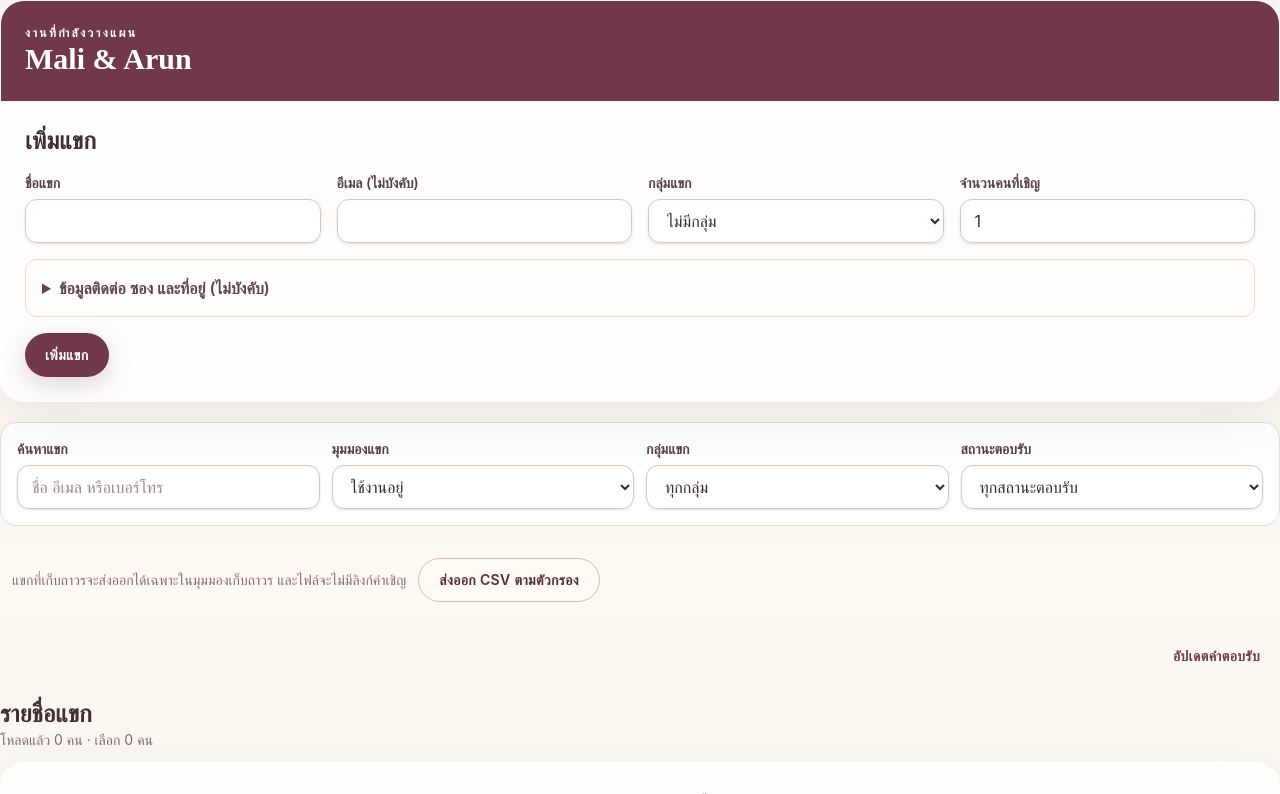
Test: GuestWorkspace › hides unknown backend errors behind Thai fallback copy
Click the button "ส่งออก CSV ตามตัวกรอง".
click(509, 580)  # box [418,558,600,602]
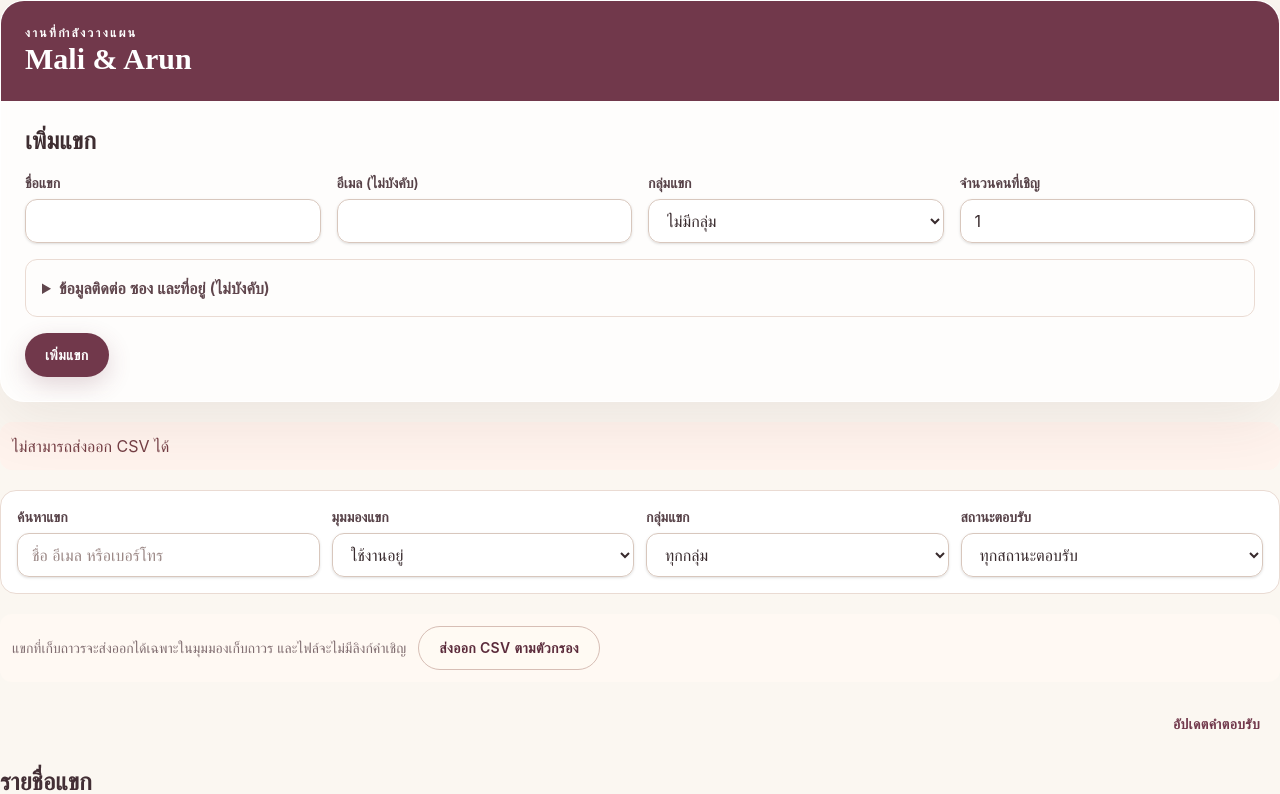
expect the message reads "ไม่สามารถส่งออก CSV ได้": met, box [12,436,169,456]
